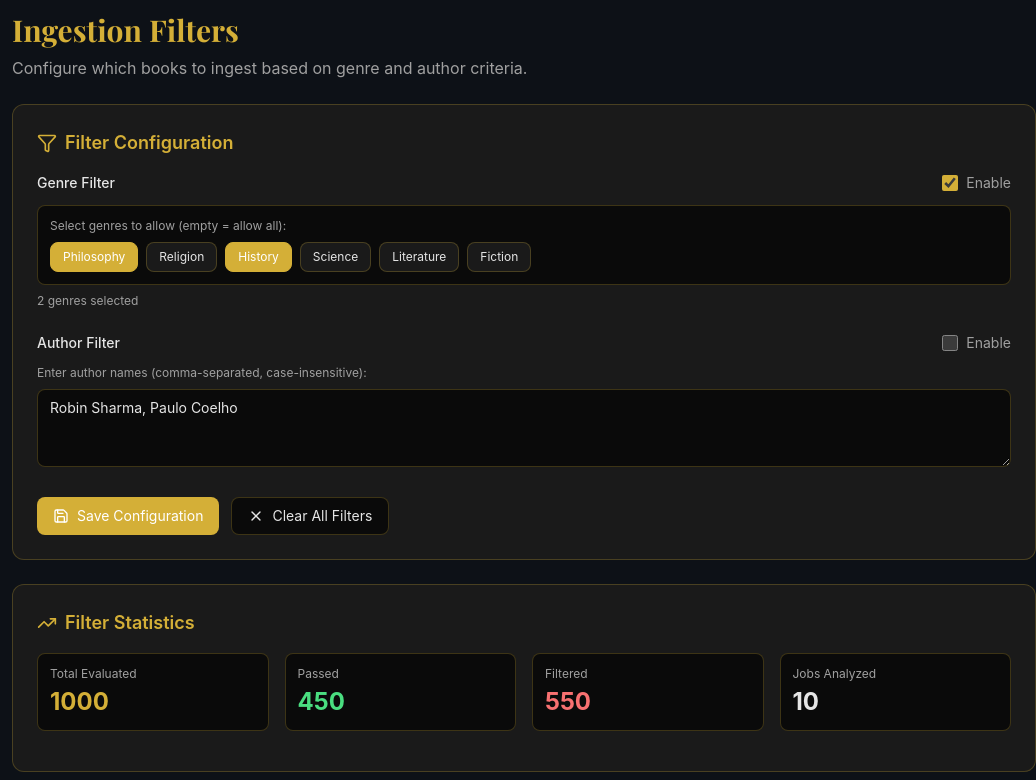
Test: IngestionFiltersPanel - Unit Tests › Save Button › should disable save button while saving
The width and height of the screenshot is (1036, 780).
What coordinates should you click on to do the following:
click the button "Save Configuration"
I would click on:
 (128, 516)
Its box is [37,497,219,535].
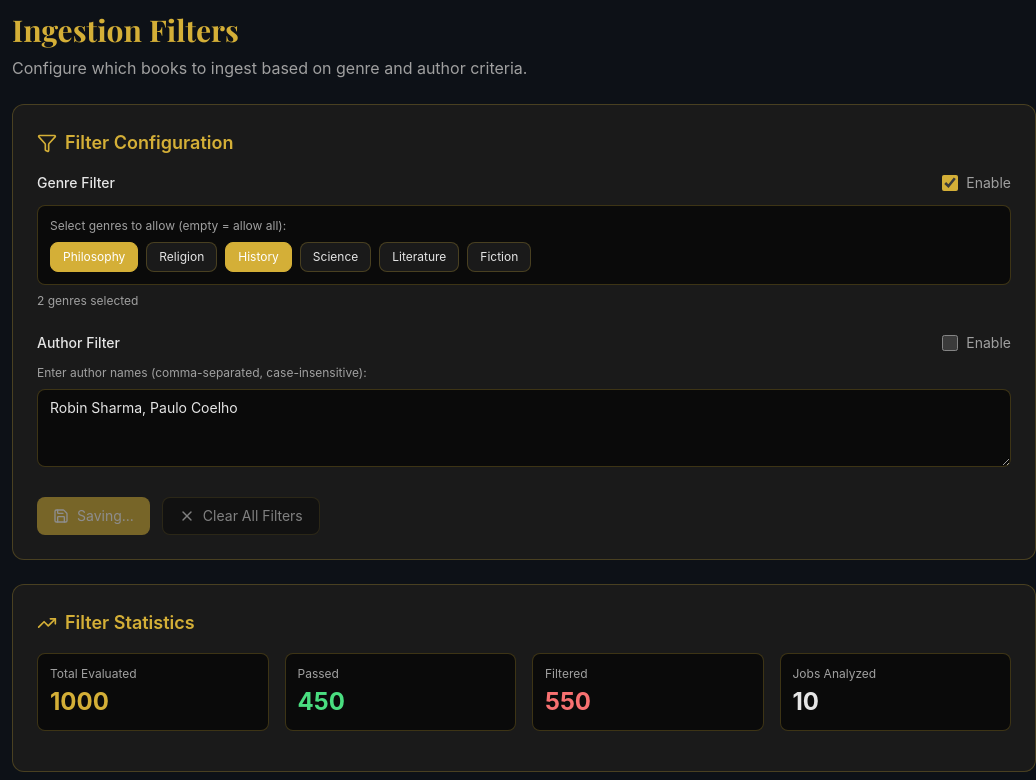
Now the button "Save Configuration" is disabled, box [37,497,150,535]
